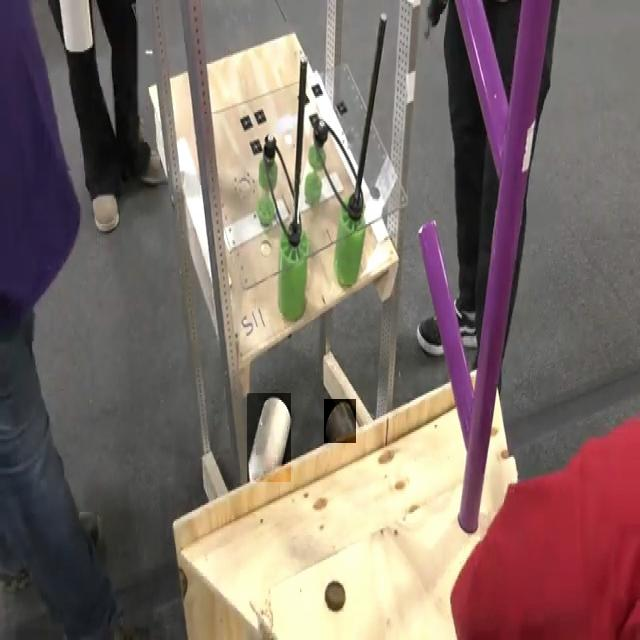Coral: (247, 393, 291, 482), (324, 399, 356, 443)
